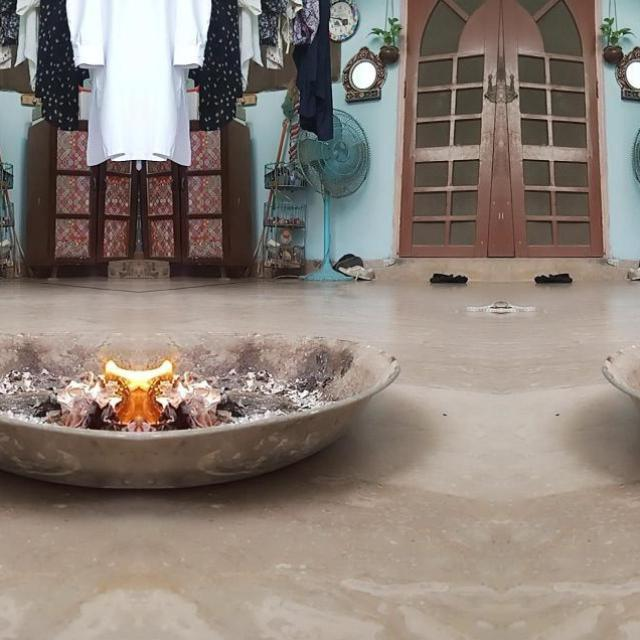smoke: (140, 354, 186, 431), (92, 354, 137, 431)
